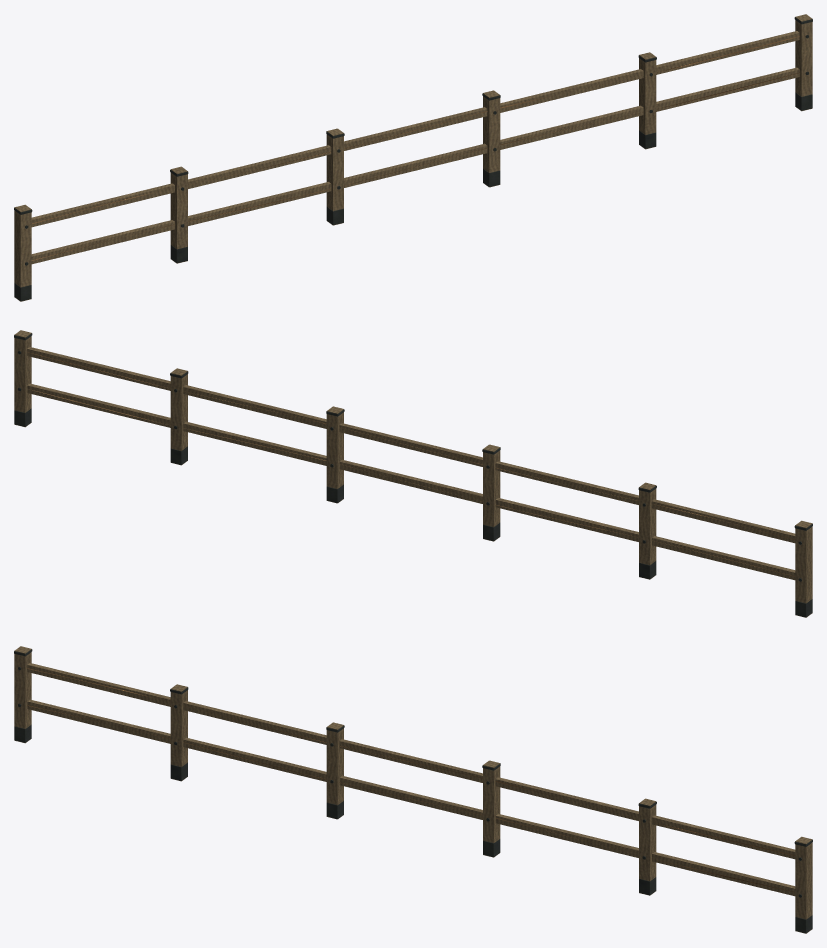
Rendered from fence.glb.
3 views of the same model, one above another, from view 1: azimuth 30°, elevation 25°; view 2: azimuth 150°, elevation 25°; view 3: azimuth 330°, elevation 25° (orthographic).
Visible parts, largest first — view 1: fence_premium; view 2: fence_premium; view 3: fence_premium.
Part boxes in pixels (left/top/right/bottom): fence_premium: left=14, top=14, right=812, bottom=301; fence_premium: left=14, top=330, right=812, bottom=617; fence_premium: left=14, top=646, right=812, bottom=933.
Size of the model in its own units: 10.15 by 1.1 by 0.1661.
Materials: 3 (3 with a texture image).
